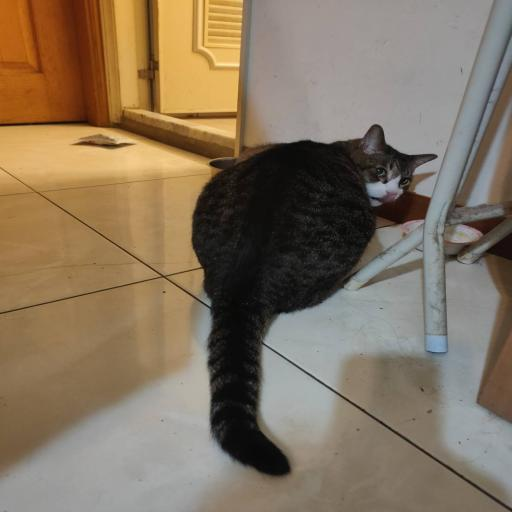cat: (198, 127, 420, 331)
